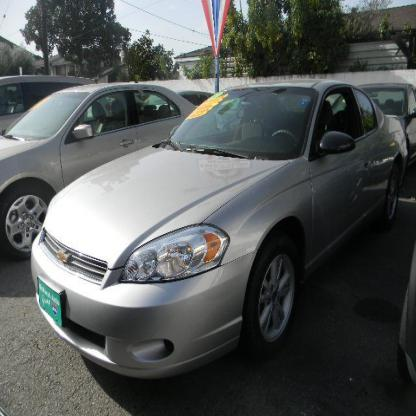Vehicle: (27, 79, 414, 385)
